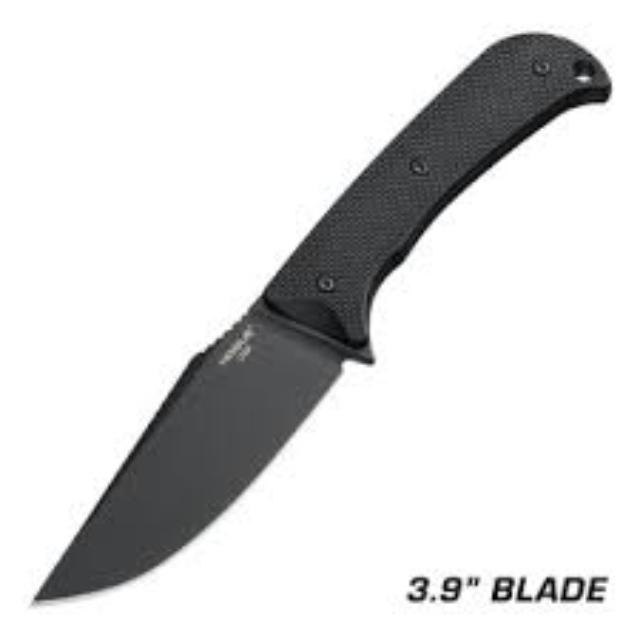Knife: (29, 29, 612, 603)
